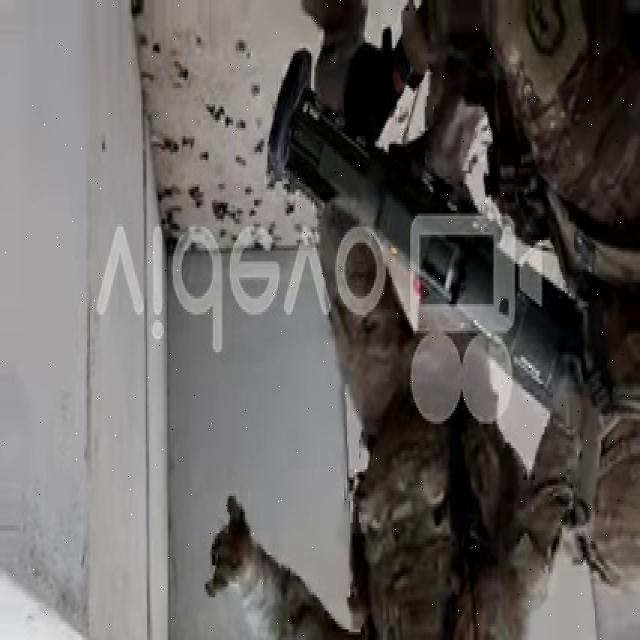bazooka: (266, 43, 611, 457)
